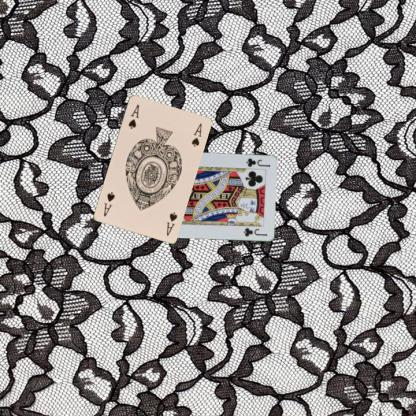As: (126, 102, 140, 130), (164, 209, 178, 237)
Jc: (244, 156, 271, 168)
